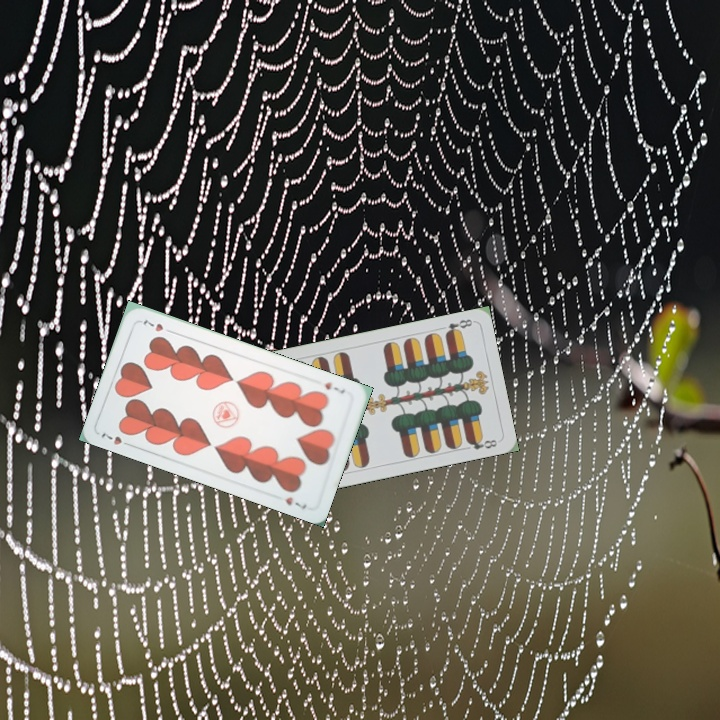E8: (441, 315, 475, 338)
H7: (97, 429, 135, 449), (321, 378, 347, 397)
